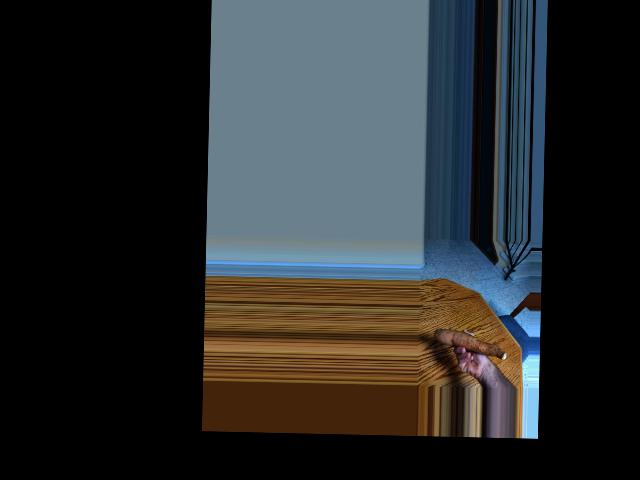sweet_potato: (436, 324, 506, 366)
